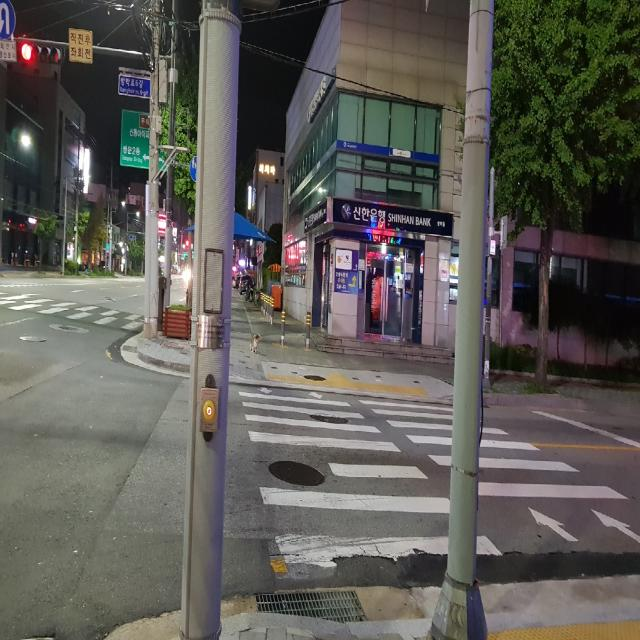횡단보도: (238, 388, 640, 568), (0, 292, 152, 335)
